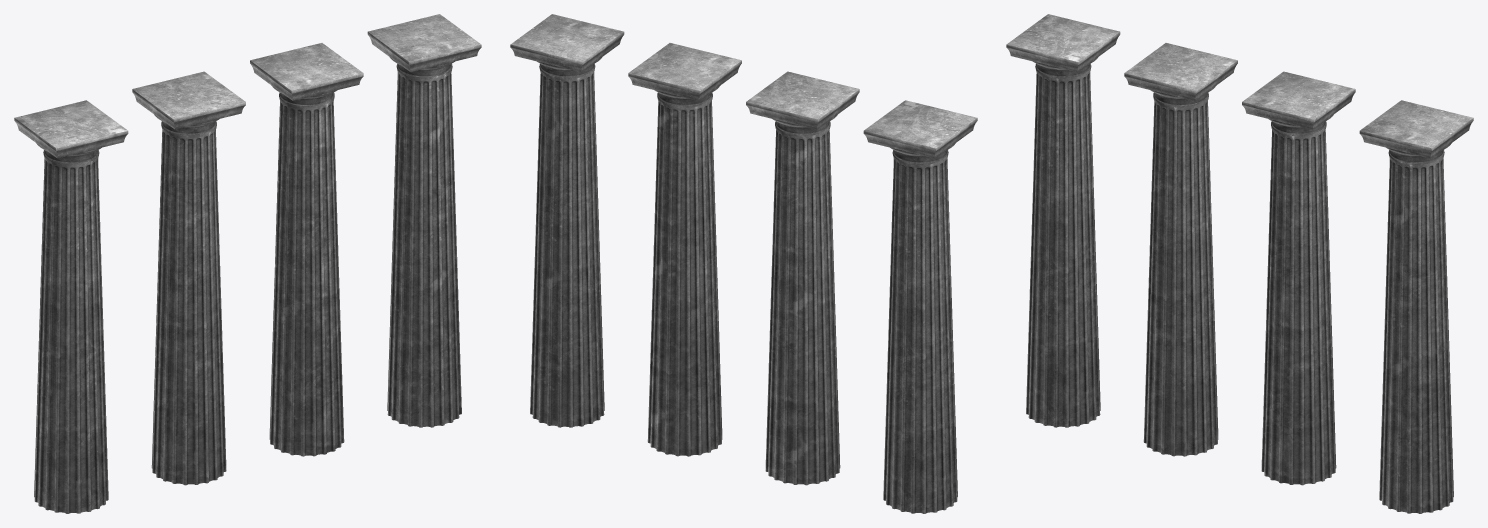
3 renders of one model, left to right at view 1: azimuth 30°, elevation 25°; view 2: azimuth 150°, elevation 25°; view 3: azimuth 330°, elevation 25°, orthographic.
Parts seen in each view (by area): view 1: Doric-3_3, Doric-1_0, Doric-2_1, Doric-4_2; view 2: Doric-3_3, Doric-1_0, Doric-2_1, Doric-4_2; view 3: Doric-1_0, Doric-4_2, Doric-3_3, Doric-2_1.
Part boxes in pixels (x1,y1,x2,y2): Doric-3_3: [367, 14, 481, 427]; Doric-1_0: [14, 100, 128, 513]; Doric-2_1: [132, 71, 245, 485]; Doric-4_2: [250, 43, 363, 456]; Doric-3_3: [510, 14, 624, 427]; Doric-1_0: [863, 100, 977, 513]; Doric-2_1: [746, 71, 859, 485]; Doric-4_2: [628, 43, 741, 456]; Doric-1_0: [1006, 14, 1120, 427]; Doric-4_2: [1242, 71, 1355, 485]; Doric-3_3: [1359, 100, 1473, 513]; Doric-2_1: [1124, 43, 1237, 456].
Size of the model in its own units: 15.09 by 12.67 by 2.56.
4 materials, 4 textured.
